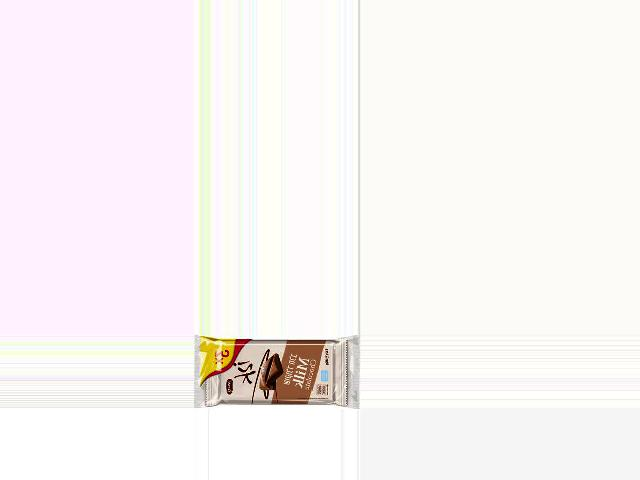chocolate: (193, 335, 344, 409)
